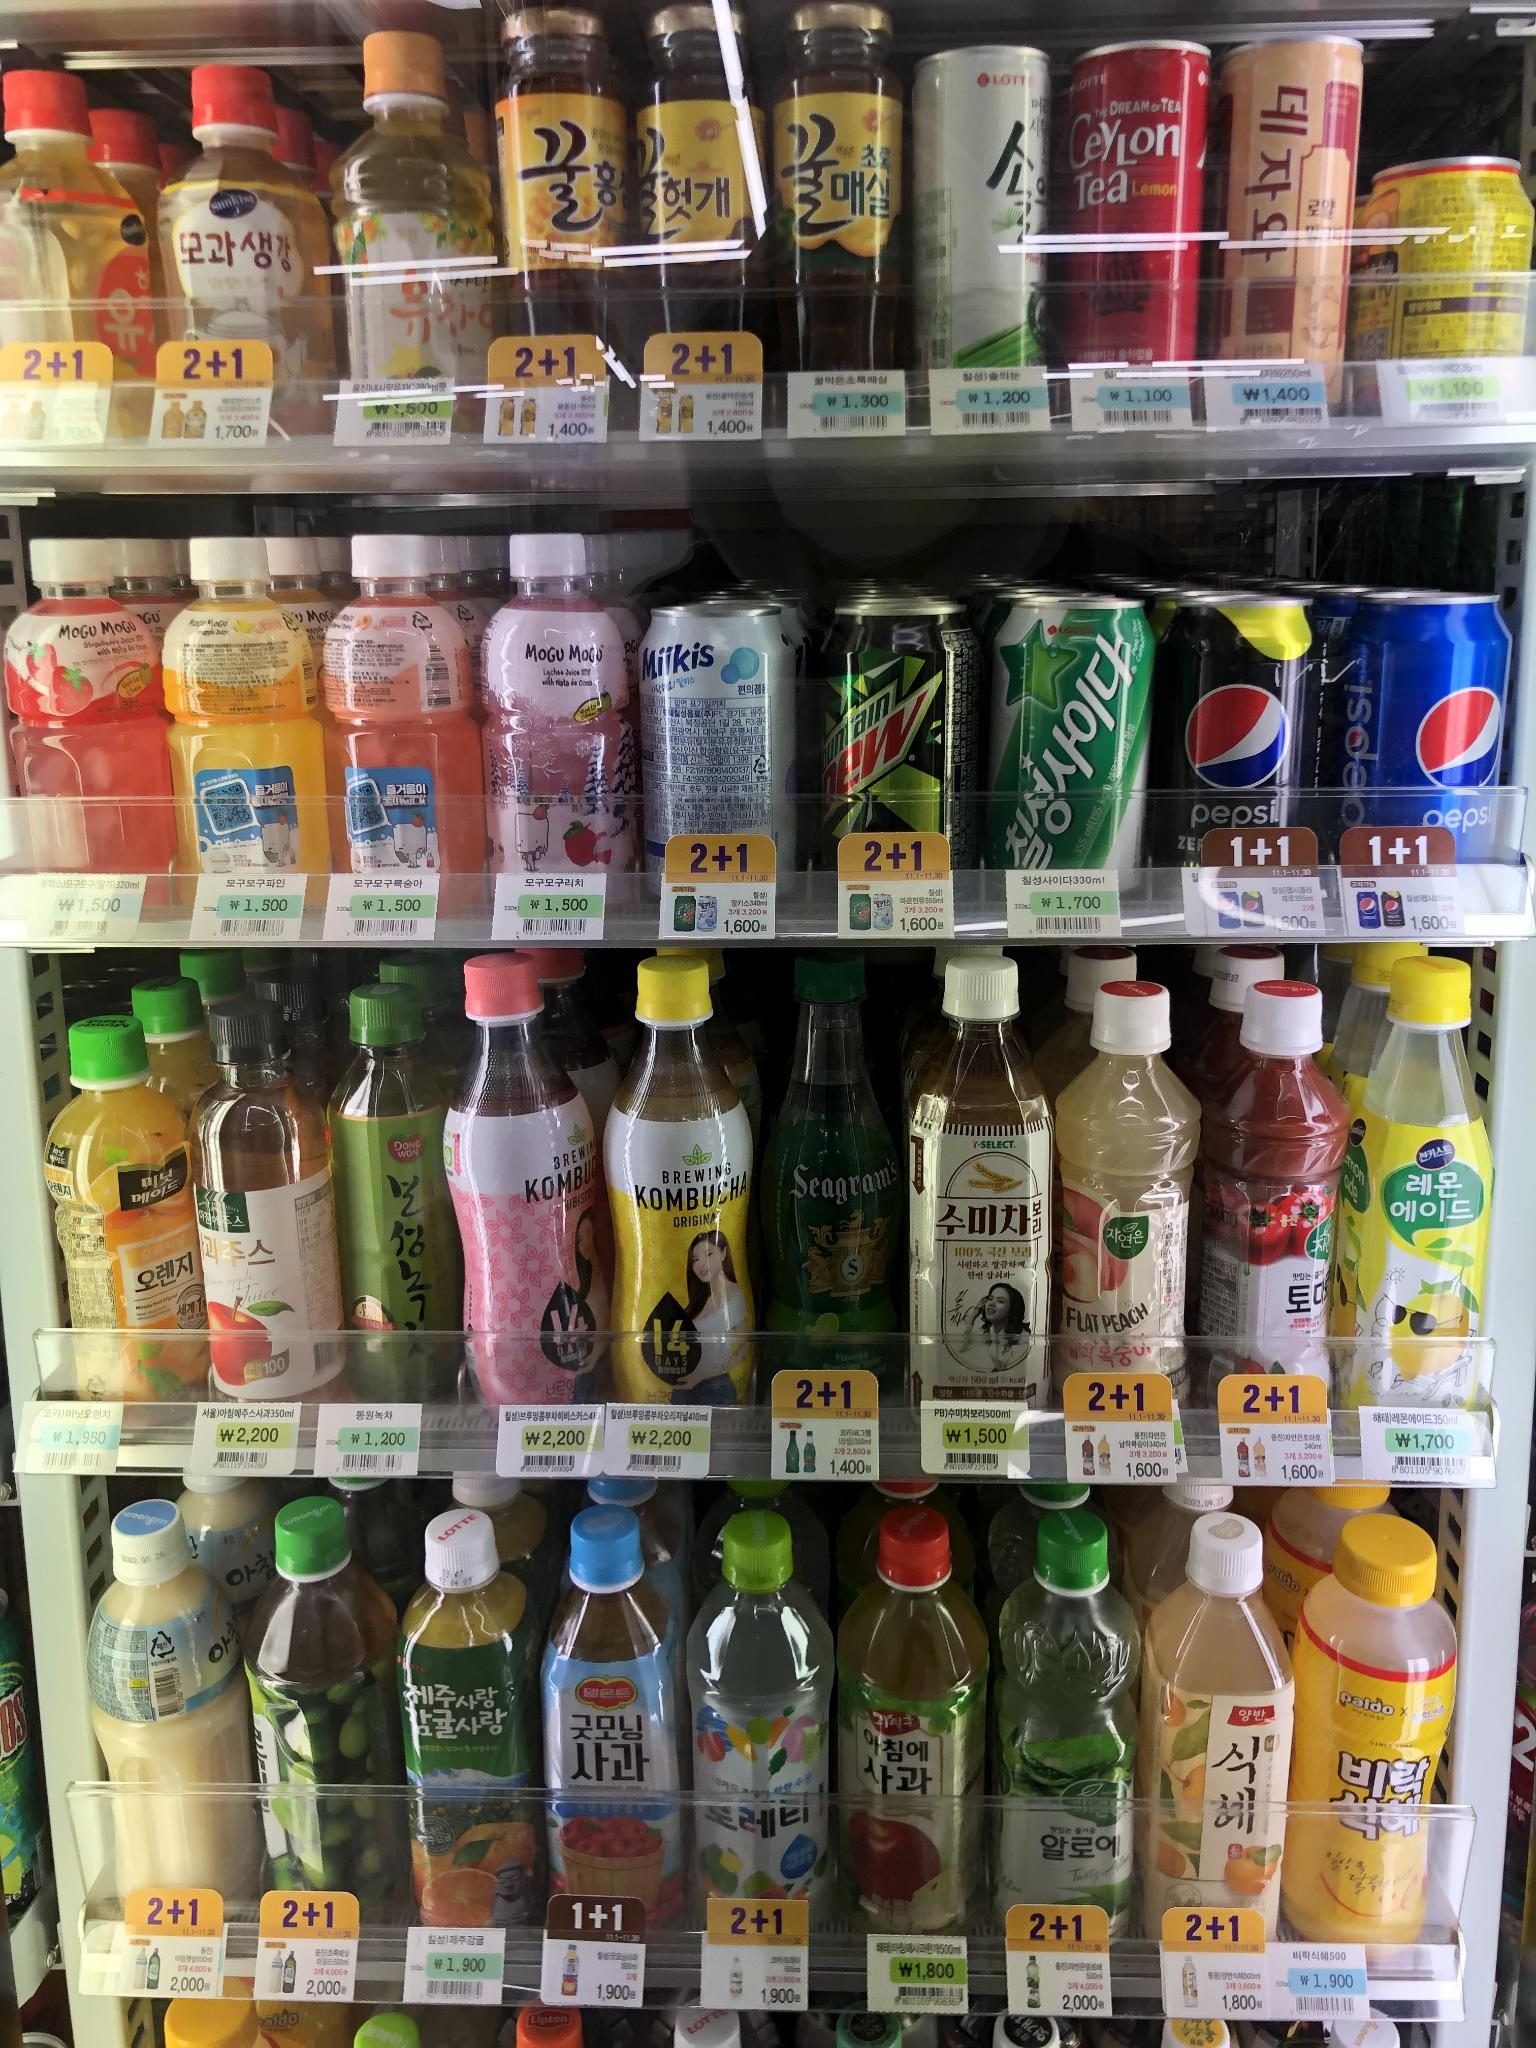chilsungcider: (966, 590, 1170, 889)
honeyyuja: (0, 71, 155, 410)
pepsi_zero: (1167, 576, 1320, 884)
